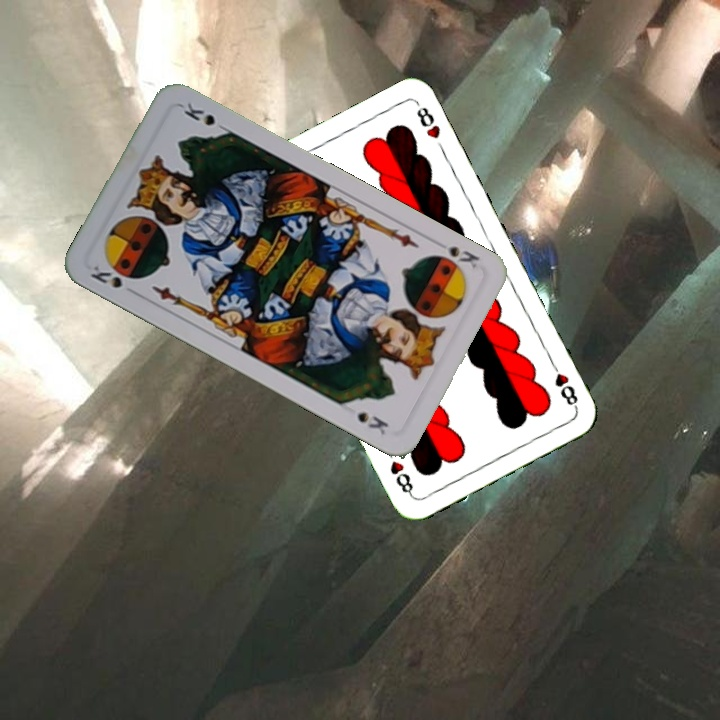H8: (546, 357, 581, 412)
SK: (86, 260, 137, 291), (443, 241, 482, 271)
